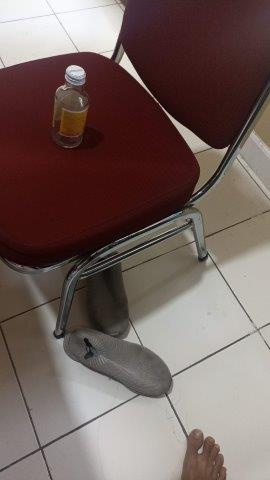botolkaca: (49, 64, 91, 149)
